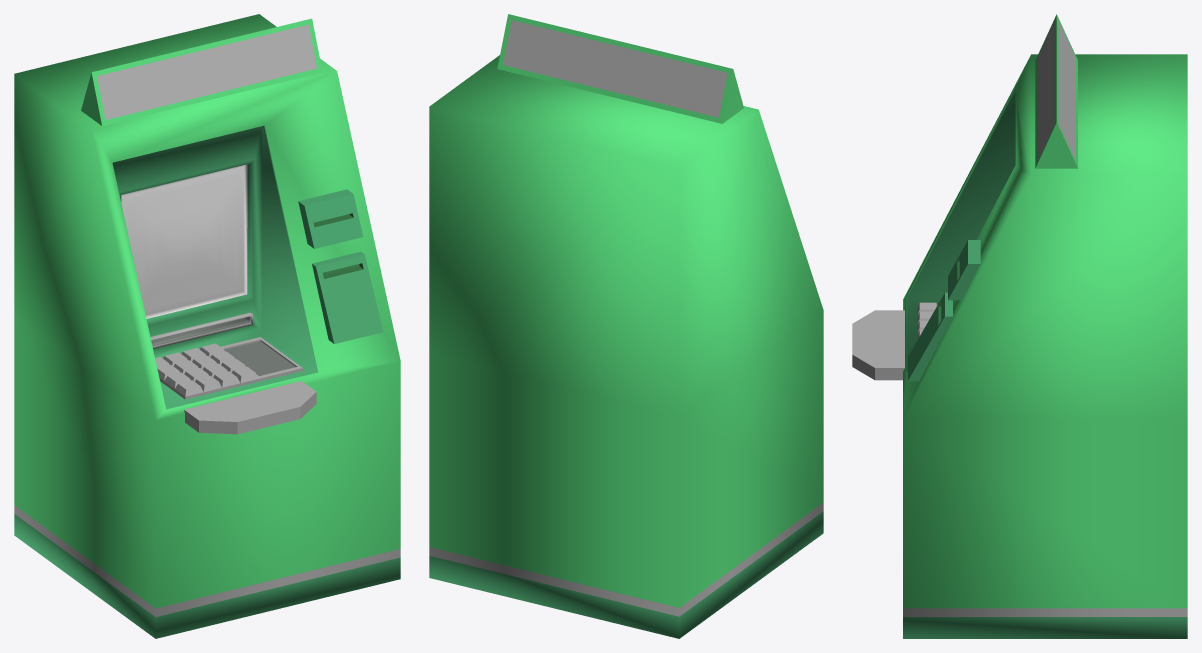
Rendered from Atm.fbx.
The picture shows the model from 3 angles, left to right: view 1: azimuth 30°, elevation 25°; view 2: azimuth 150°, elevation 25°; view 3: azimuth 270°, elevation 25°; orthographic projection. The views are drawn at different scales.
Visible parts, largest first — view 1: Atm; view 2: Atm; view 3: Atm.
Boxes of the visible parts, bbox=[...] form: Atm: bbox=[14, 14, 400, 638]; Atm: bbox=[429, 14, 823, 638]; Atm: bbox=[852, 14, 1187, 638].
Bounding box in the file's own units: 200 × 396 × 236.
